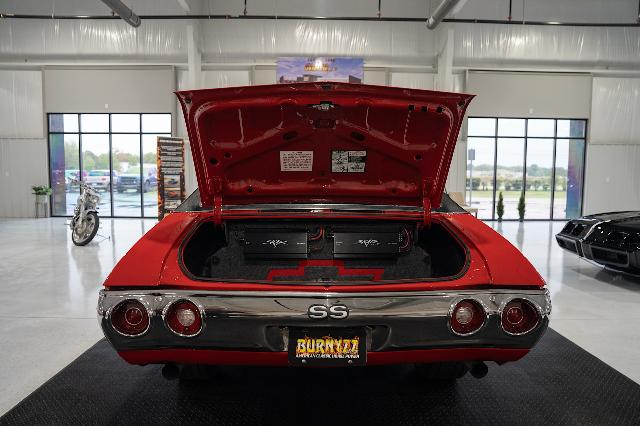chevelle-1972: (96, 82, 551, 379)
